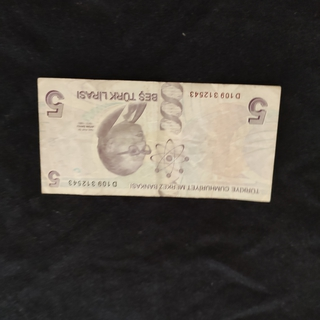5TLBack: (35, 76, 282, 205)
